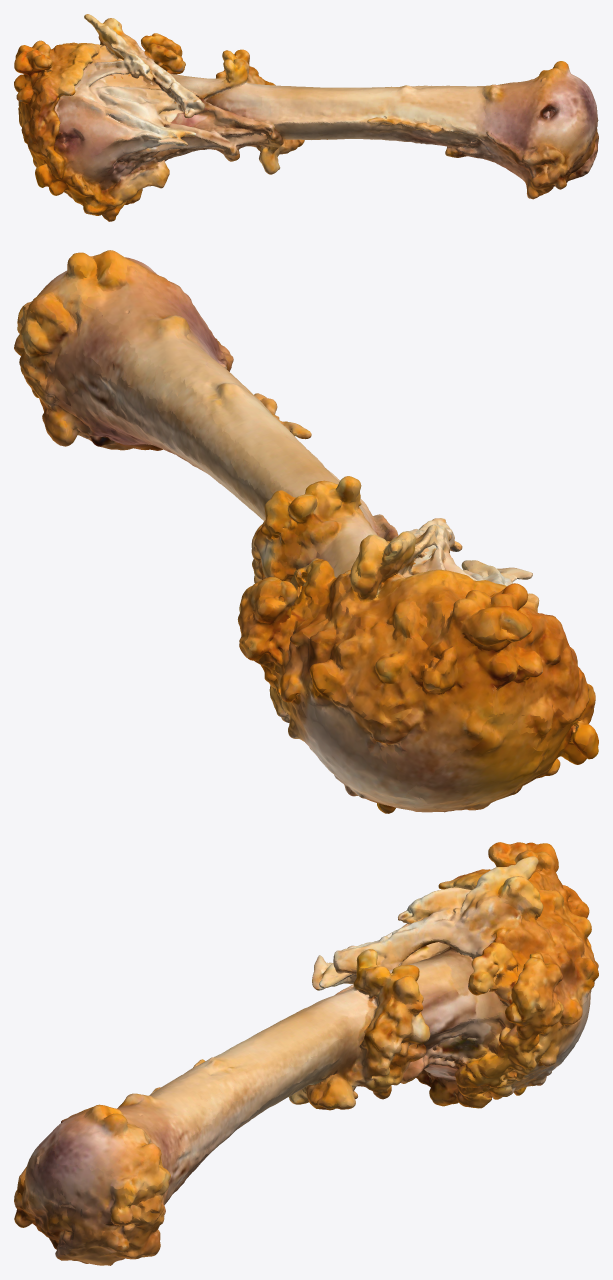
Rendered from crispy-chicken-3.glb.
The picture shows the model from 3 angles, top to bottom: view 1: azimuth 30°, elevation 25°; view 2: azimuth 150°, elevation 25°; view 3: azimuth 270°, elevation 25°; orthographic projection. The views are drawn at different scales.
Parts seen in each view (by area): view 1: FoodRedoV2Alignment-0; view 2: FoodRedoV2Alignment-0; view 3: FoodRedoV2Alignment-0.
Boxes of the visible parts, x1,y1,x2,y2 form: FoodRedoV2Alignment-0: (14, 14, 598, 221); FoodRedoV2Alignment-0: (14, 250, 598, 813); FoodRedoV2Alignment-0: (14, 842, 598, 1265).
Bounding box in the file's own units: 0.1284 × 0.0465 × 0.1021.
Materials: 1 (1 with a texture image).
